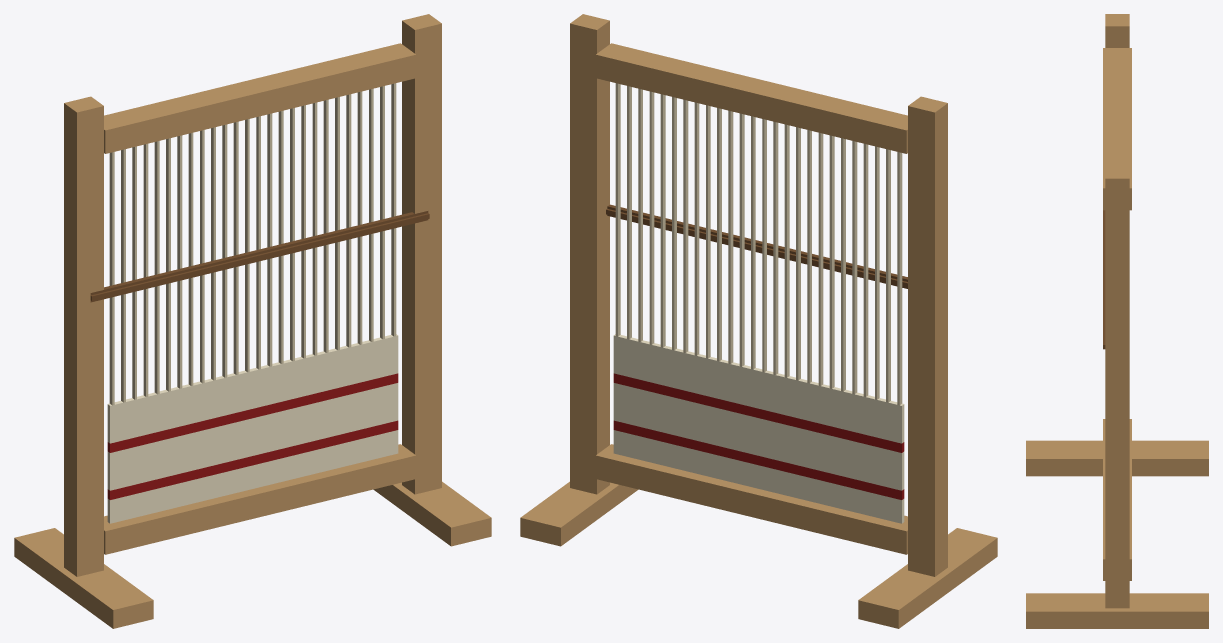
File: loom_frame.glb
3 views of the same model, side by side, from view 1: azimuth 30°, elevation 25°; view 2: azimuth 150°, elevation 25°; view 3: azimuth 270°, elevation 25° (orthographic). The views are drawn at different scales.
Visible parts, largest first — view 1: loom_frame:compound; view 2: loom_frame:compound; view 3: loom_frame:compound.
Part boxes in pixels (x1=…): loom_frame:compound: x1=14, y1=14, x2=491, y2=628; loom_frame:compound: x1=520, y1=14, x2=997, y2=628; loom_frame:compound: x1=1026, y1=14, x2=1208, y2=628.
Size of the model in its own units: 0.672 by 0.82 by 0.304.
